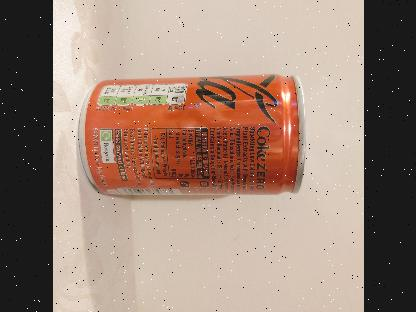Can: (78, 72, 306, 196)
